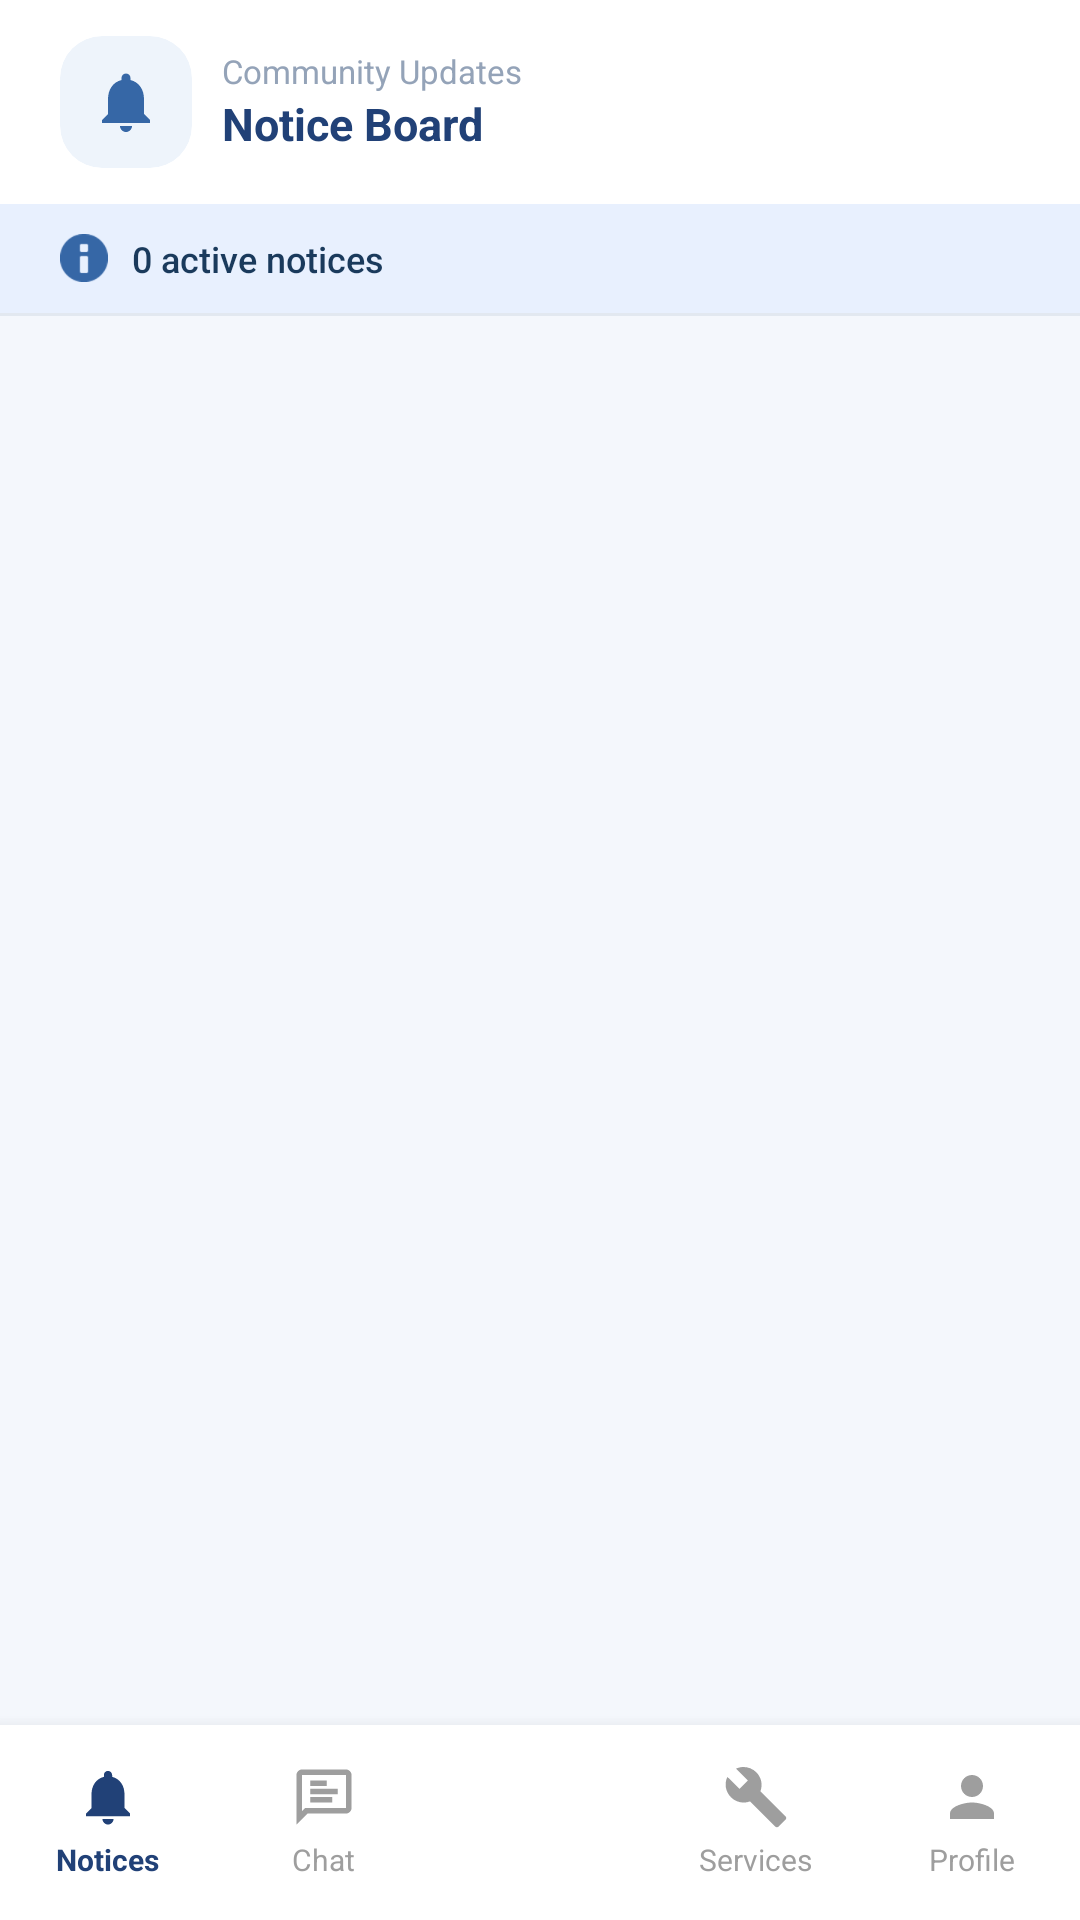

Point at icon controls on the screen. Image size 1080px x 1920px, points as point (x, y).
announcement: point (126, 102), point (108, 1798)
info: point (84, 258)
